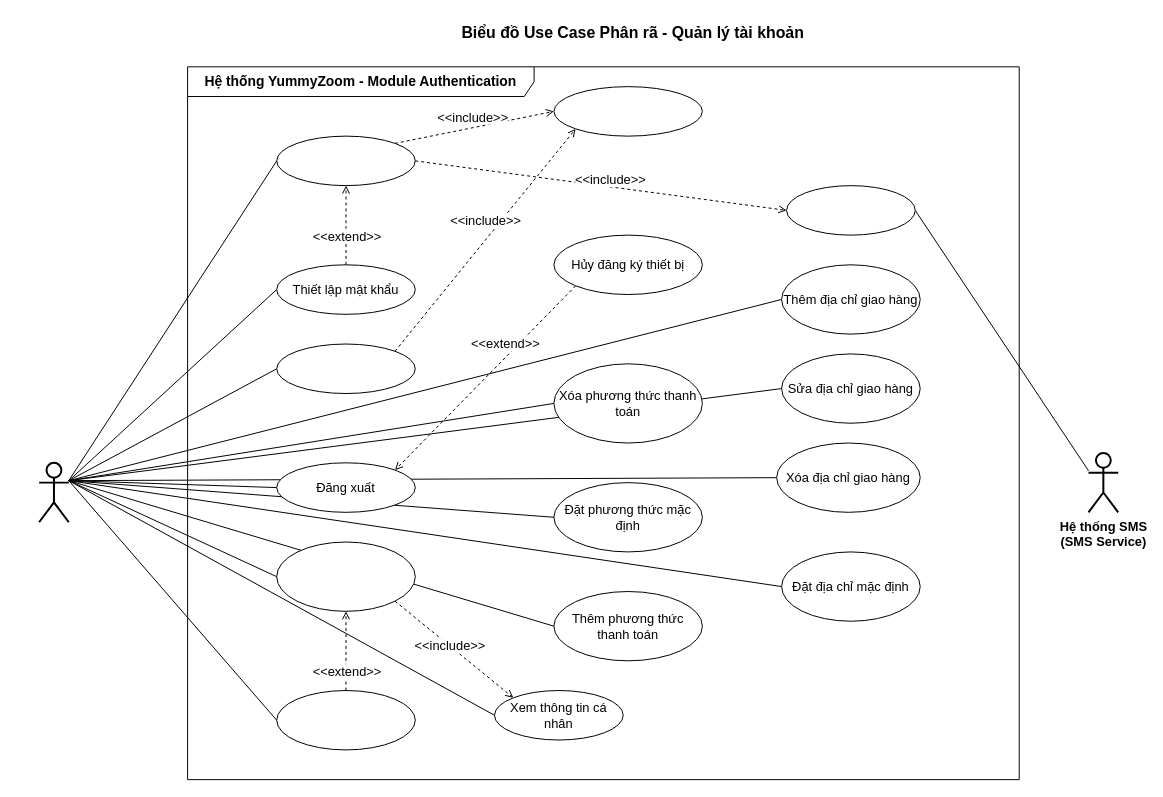
Image size: 1163x797. Some labels were removed from this diagram. The centre of each missing label's shape, as x and y in pixels:
"Cập nhật thông tin cá nhân" goes at point 345,576.
"Khách hàng (Customer)" goes at point 53,492.
"Thay đổi mật khẩu" goes at point 345,720.
"Xác thực số điện thoại" goes at point 850,210.
"Đăng ký thiết bị" goes at point 627,111.
"Đăng ký tài khoản" goes at point 345,160.
"Đăng nhập" goes at point 345,368.
